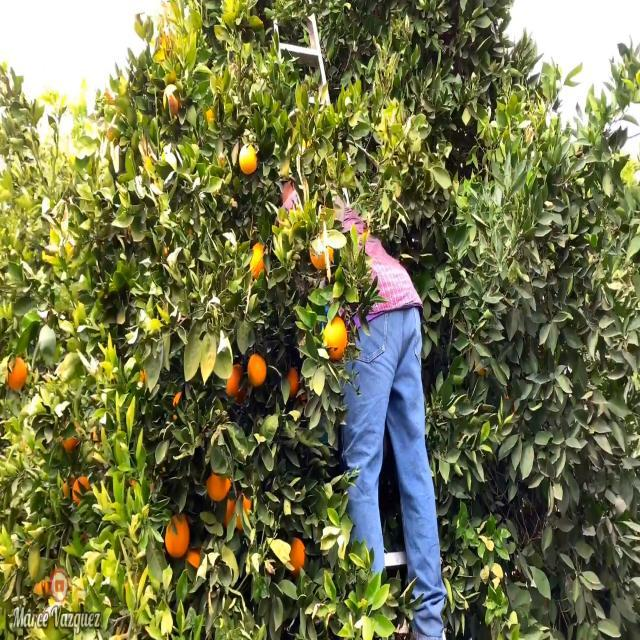Jeruk Sudah Matang: (162, 508, 194, 560), (324, 310, 348, 366), (236, 138, 259, 175), (206, 468, 232, 498), (248, 352, 270, 387), (286, 534, 306, 572), (228, 362, 244, 402)
